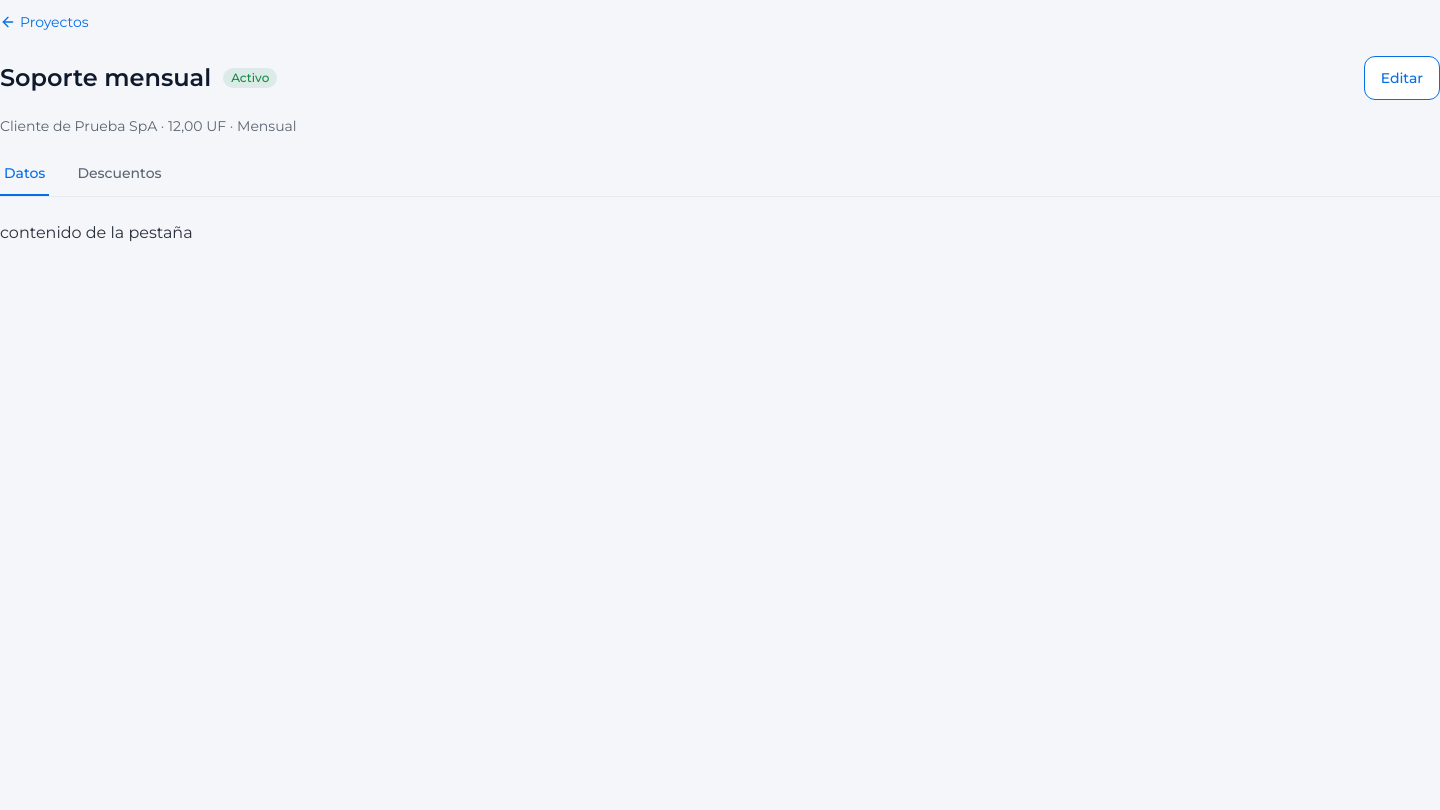
Test: LayoutDetalleProyecto › el botón Editar abre el formulario de edición del proyecto
The width and height of the screenshot is (1440, 810).
What coordinates should you click on to do the following:
click the button "Editar"
I would click on:
 (1402, 78)
Its box is [1364,56,1439,100].
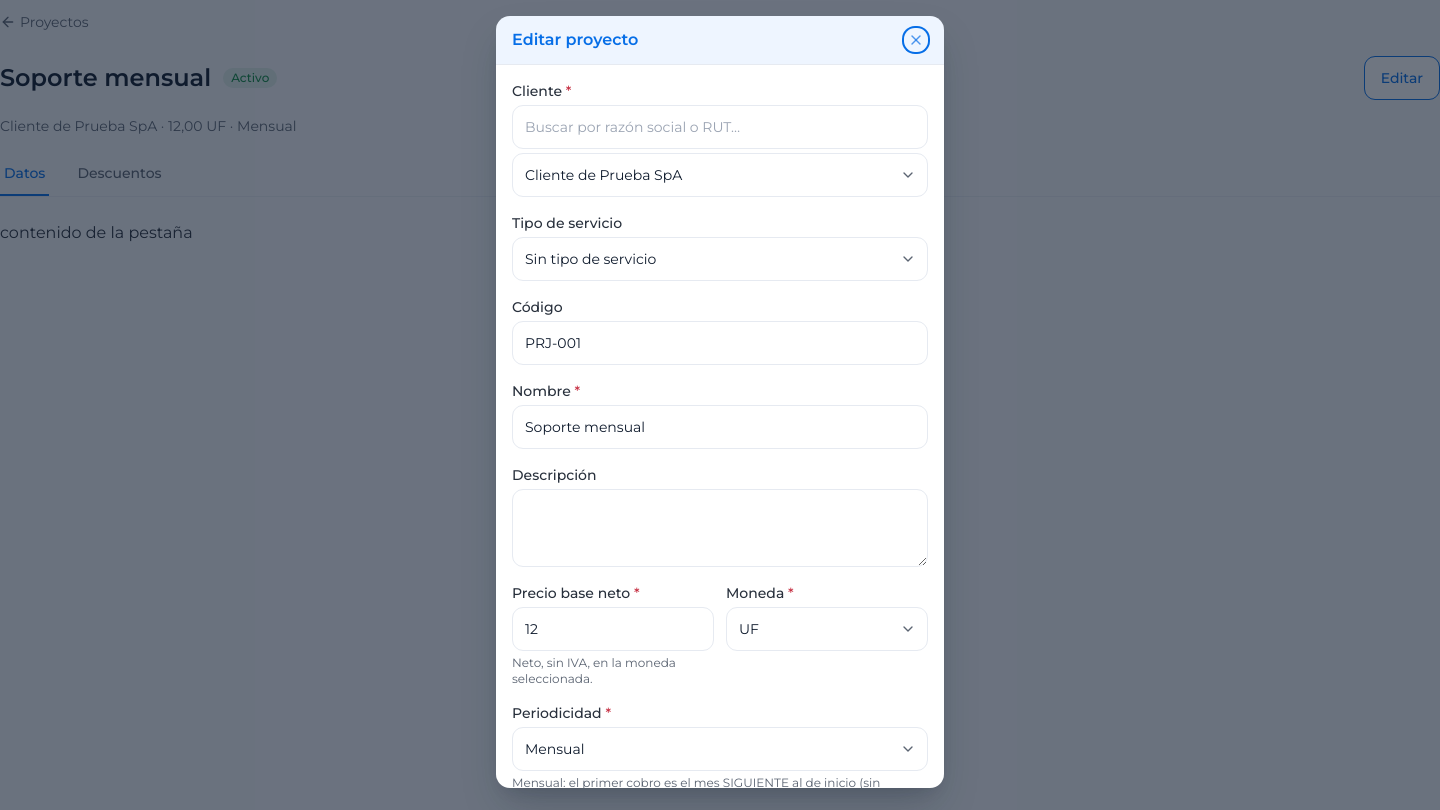
Check: the heading "Editar proyecto" is shown, box [512,28,638,52]
